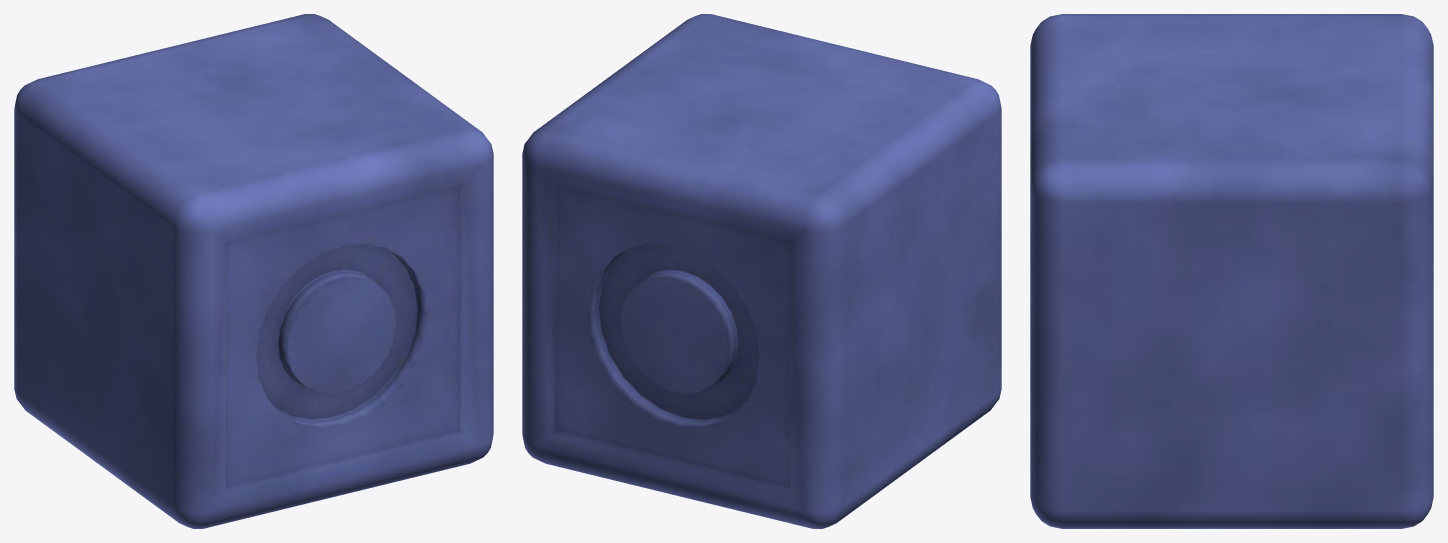
File: tas1.glb
3 renders of one model, left to right at view 1: azimuth 30°, elevation 25°; view 2: azimuth 150°, elevation 25°; view 3: azimuth 270°, elevation 25°, orthographic. The views are drawn at different scales.
Visible parts, largest first — view 1: blok; view 2: blok; view 3: blok.
Part boxes in pixels (box(x1,y1,x2,y2)): blok: box(14, 14, 493, 528); blok: box(522, 14, 1001, 528); blok: box(1030, 14, 1433, 528).
Bounding box in the file's own units: 1 × 1 × 1.
Materials: 1 (1 with a texture image).
